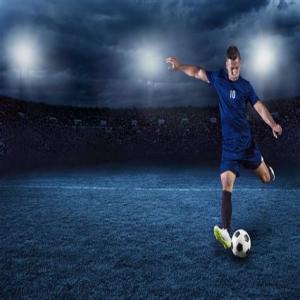Football: (229, 228, 254, 261)
